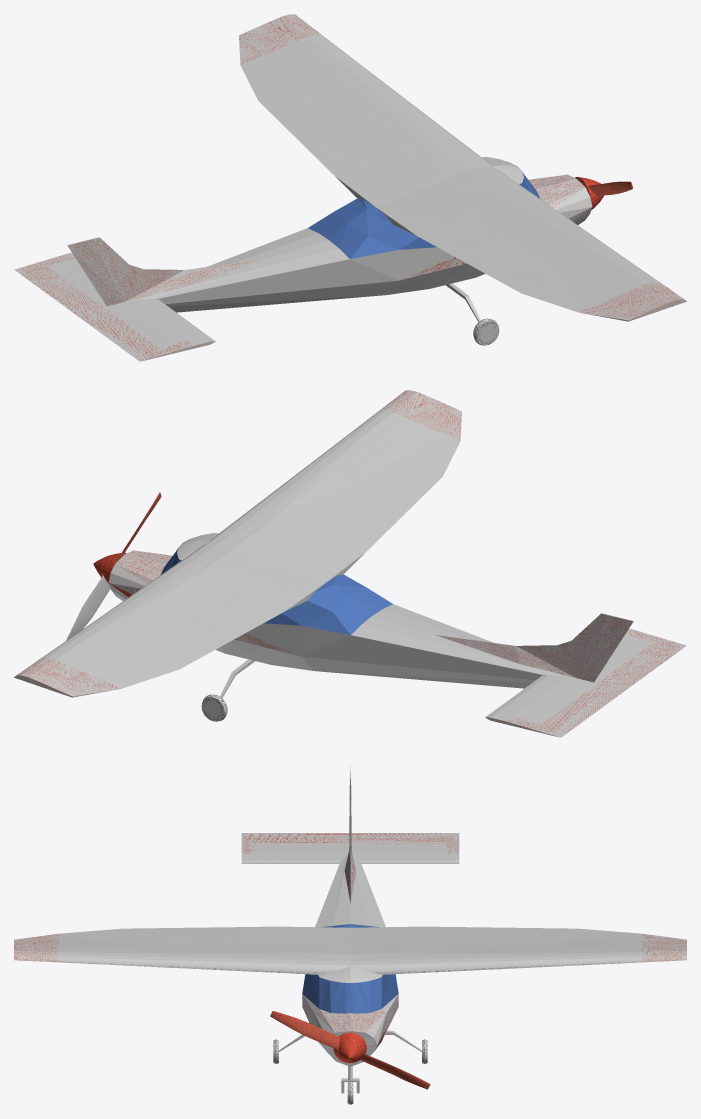
The picture shows the model from 3 angles, top to bottom: view 1: azimuth 30°, elevation 25°; view 2: azimuth 150°, elevation 25°; view 3: azimuth 270°, elevation 25°; orthographic projection. The views are drawn at different scales.
Parts seen in each view (by area): view 1: mesh3.001_mesh3-geometry, mesh1.002_mesh1-geometry; view 2: mesh3.001_mesh3-geometry, mesh1.002_mesh1-geometry; view 3: mesh3.001_mesh3-geometry, mesh1.002_mesh1-geometry.
Boxes of the visible parts, x1,y1,x2,y2 form: mesh3.001_mesh3-geometry: [14, 14, 686, 361]; mesh1.002_mesh1-geometry: [575, 177, 632, 209]; mesh3.001_mesh3-geometry: [14, 390, 686, 737]; mesh1.002_mesh1-geometry: [66, 492, 161, 640]; mesh3.001_mesh3-geometry: [14, 766, 686, 1080]; mesh1.002_mesh1-geometry: [270, 1011, 430, 1089].
Size of the model in its own units: 0.6157 by 0.1745 by 0.7684.
